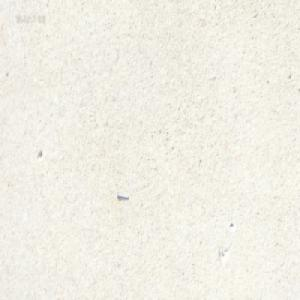Nail: (114, 191, 129, 200)
